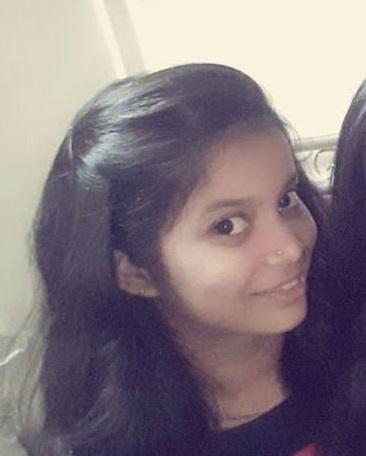No Mask: (59, 84, 333, 387)
